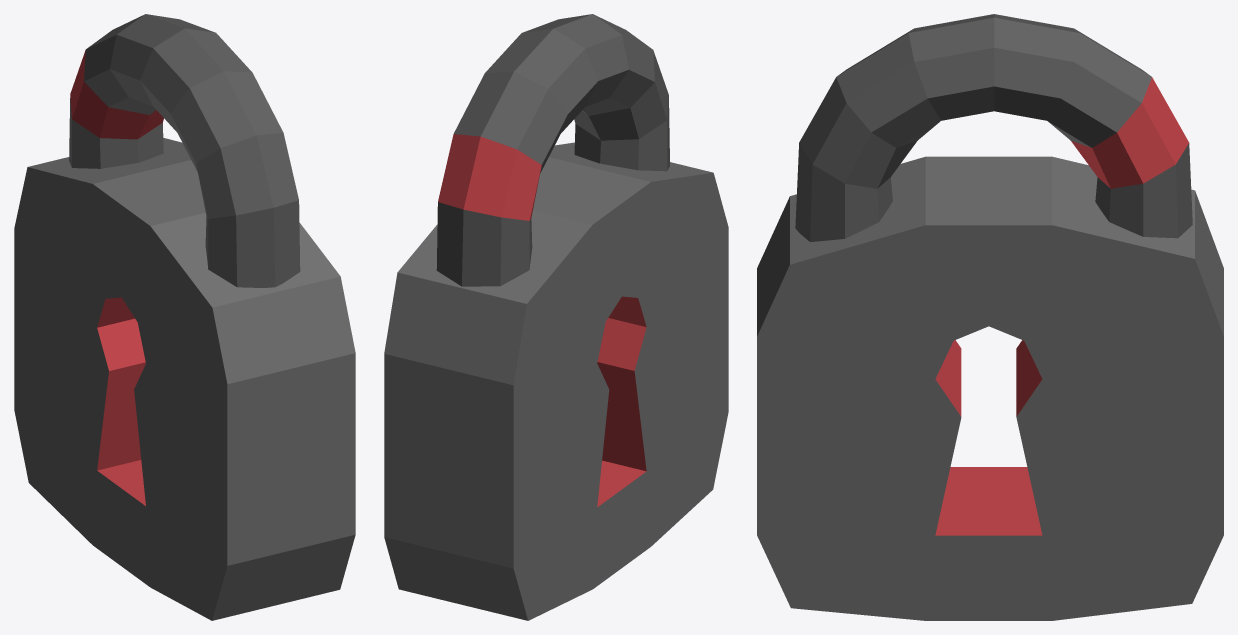
The model's file is CandadoRojo.fbx.
The picture shows the model from 3 angles, left to right: view 1: azimuth 30°, elevation 25°; view 2: azimuth 150°, elevation 25°; view 3: azimuth 270°, elevation 25°; orthographic projection. The views are drawn at different scales.
Parts seen in each view (by area): view 1: Torus.001; view 2: Torus.001; view 3: Torus.001.
Part boxes in pixels (x1,y1,x2,y2): Torus.001: (14,14,355,620); Torus.001: (384,14,728,620); Torus.001: (757,14,1223,620).
Bounding box in the file's own units: 5.96 × 23.12 × 17.16.
